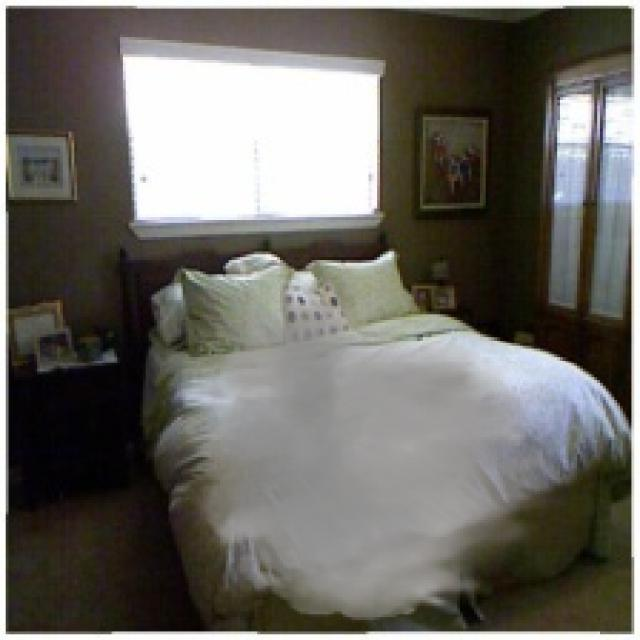Smoke: (163, 268, 583, 628)
